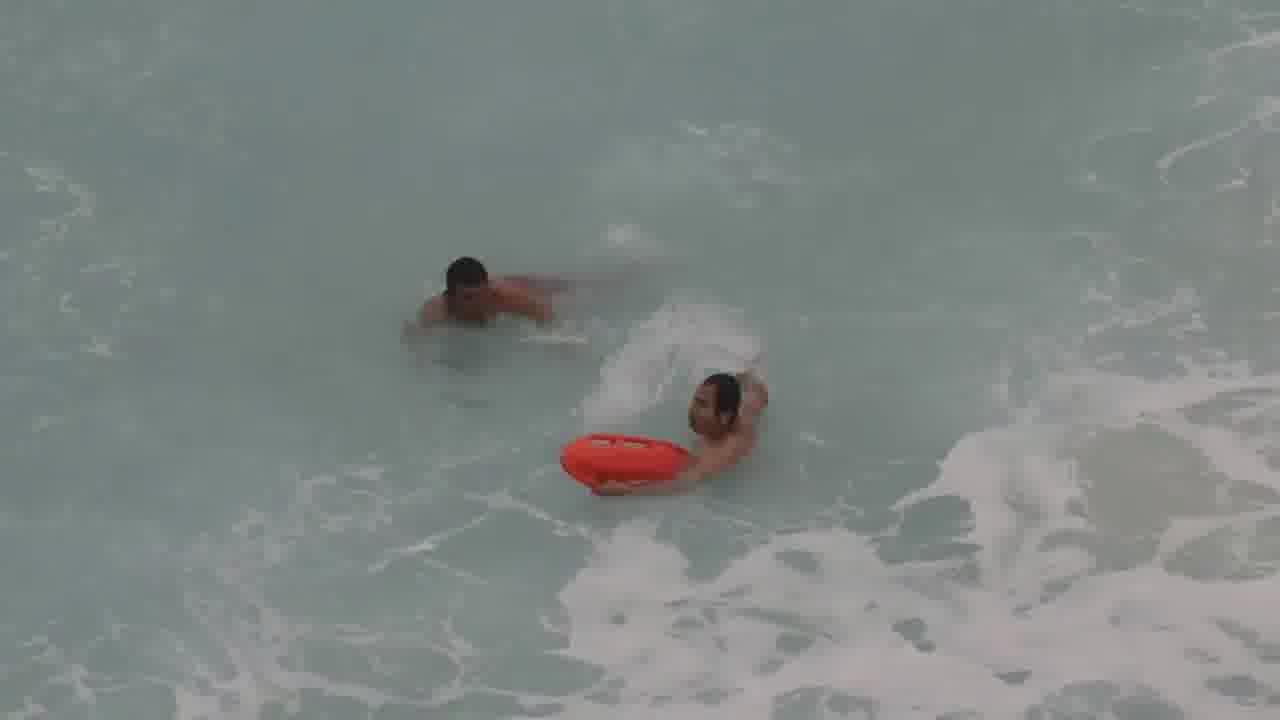human: (585, 355, 787, 500), (413, 243, 611, 370)
